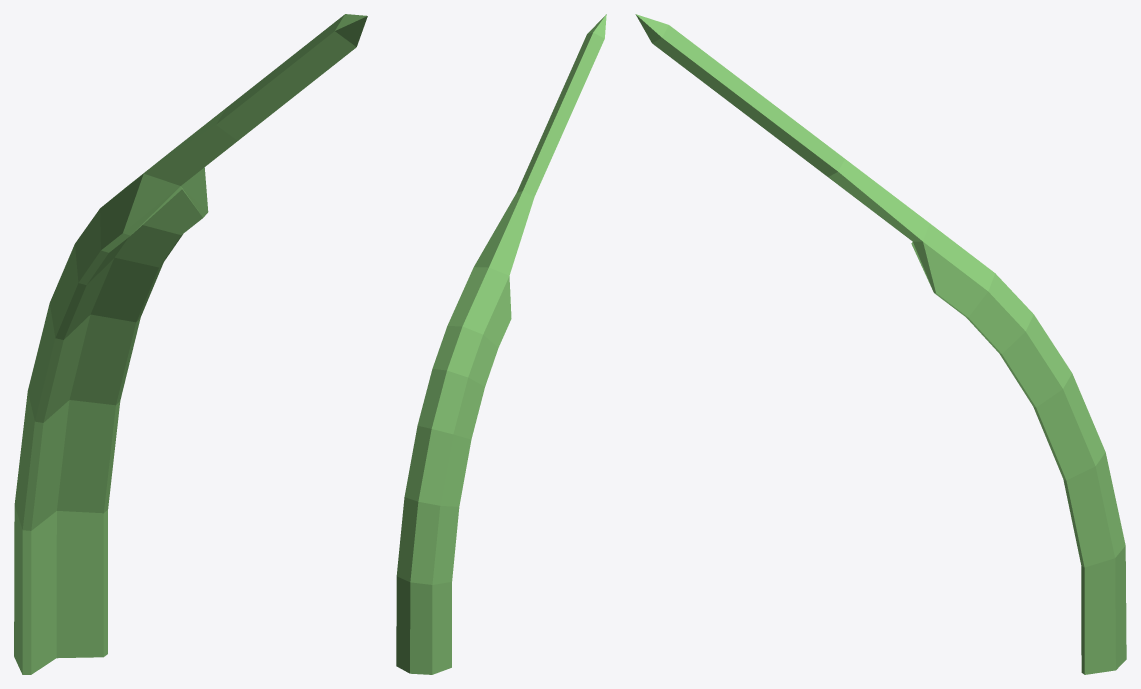
The model's file is stm_env_VFT_Stem-002.fbx.
3 renders of one model, left to right at view 1: azimuth 30°, elevation 25°; view 2: azimuth 150°, elevation 25°; view 3: azimuth 270°, elevation 25°, orthographic. The views are drawn at different scales.
Visible parts, largest first — view 1: stm_env_VFT_Stem_002; view 2: stm_env_VFT_Stem_002; view 3: stm_env_VFT_Stem_002.
Part boxes in pixels (left/top/right/bottom): stm_env_VFT_Stem_002: left=14, top=14, right=367, bottom=674; stm_env_VFT_Stem_002: left=396, top=14, right=606, bottom=674; stm_env_VFT_Stem_002: left=635, top=14, right=1126, bottom=674.
Size of the model in its own units: 60 by 584 by 403.
